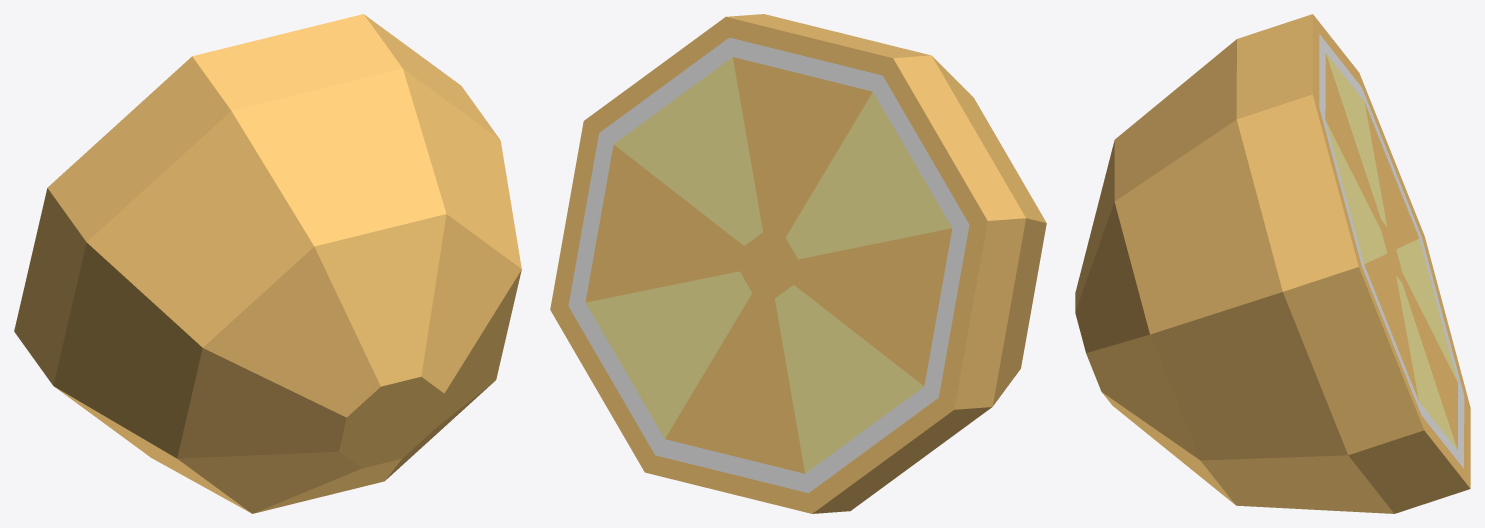
File: Food_LemonHalf.fbx
3 views of the same model, side by side, from view 1: azimuth 30°, elevation 25°; view 2: azimuth 150°, elevation 25°; view 3: azimuth 270°, elevation 25° (orthographic). The views are drawn at different scales.
Parts seen in each view (by area): view 1: Cylinder.009; view 2: Cylinder.009; view 3: Cylinder.009.
Part boxes in pixels (x1,y1,x2,y2): Cylinder.009: (14, 14, 521, 513); Cylinder.009: (550, 14, 1046, 513); Cylinder.009: (1075, 14, 1470, 513).
Bounding box in the file's own units: 8.09 × 8.1 × 6.91.
